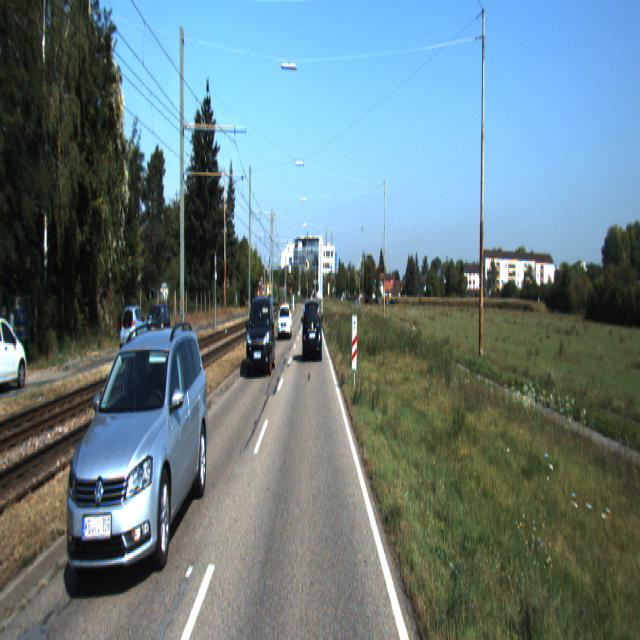Car: (67, 324, 212, 592), (246, 293, 277, 379), (0, 307, 29, 394), (120, 303, 150, 352), (143, 300, 172, 345), (303, 297, 322, 362), (278, 303, 292, 339)
